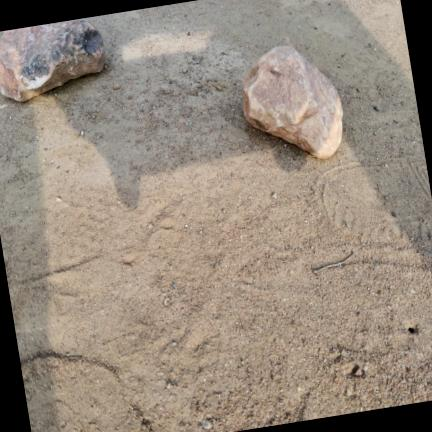Rocks: (243, 46, 342, 158), (0, 19, 105, 101)
